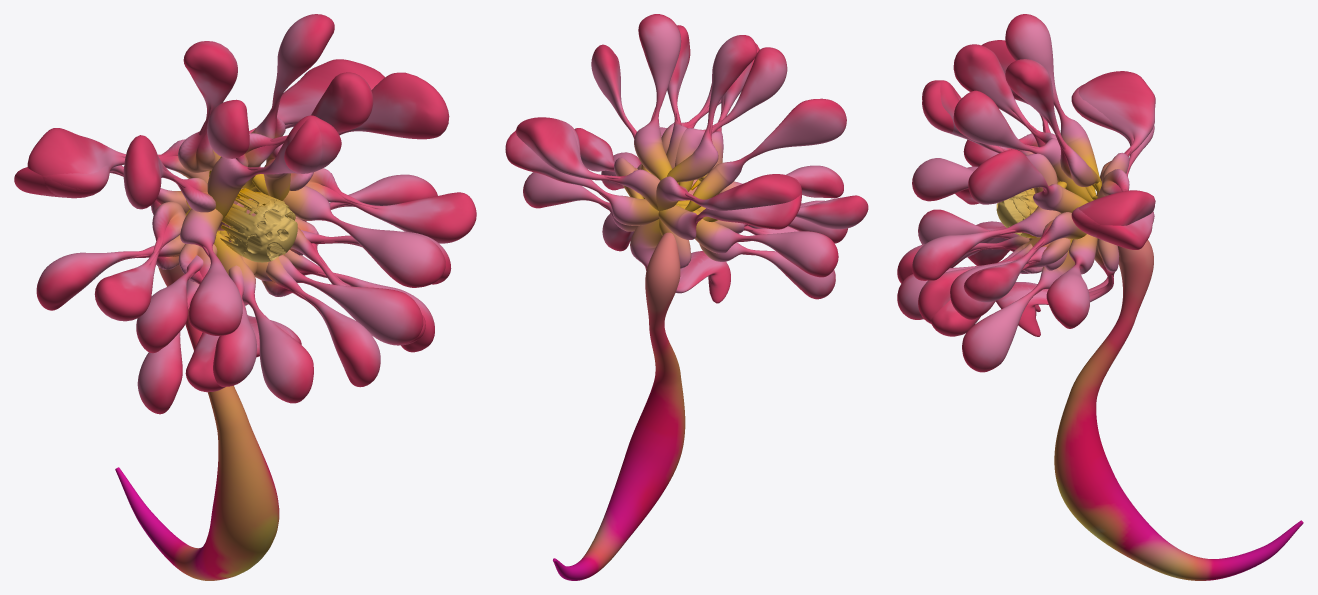
3 renders of one model, left to right at view 1: azimuth 30°, elevation 25°; view 2: azimuth 150°, elevation 25°; view 3: azimuth 270°, elevation 25°, orthographic. The views are drawn at different scales.
Parts seen in each view (by area): view 1: LOD 0_6177960798552739207_21c40791c56367b44a9c269bf2c0023c; view 2: LOD 0_6177960798552739207_21c40791c56367b44a9c269bf2c0023c; view 3: LOD 0_6177960798552739207_21c40791c56367b44a9c269bf2c0023c.
Boxes of the visible parts, x1,y1,x2,y2 form: LOD 0_6177960798552739207_21c40791c56367b44a9c269bf2c0023c: [14, 14, 476, 580]; LOD 0_6177960798552739207_21c40791c56367b44a9c269bf2c0023c: [505, 14, 868, 580]; LOD 0_6177960798552739207_21c40791c56367b44a9c269bf2c0023c: [897, 14, 1303, 580].
Size of the model in its own units: 1.48 by 2.24 by 1.56.
